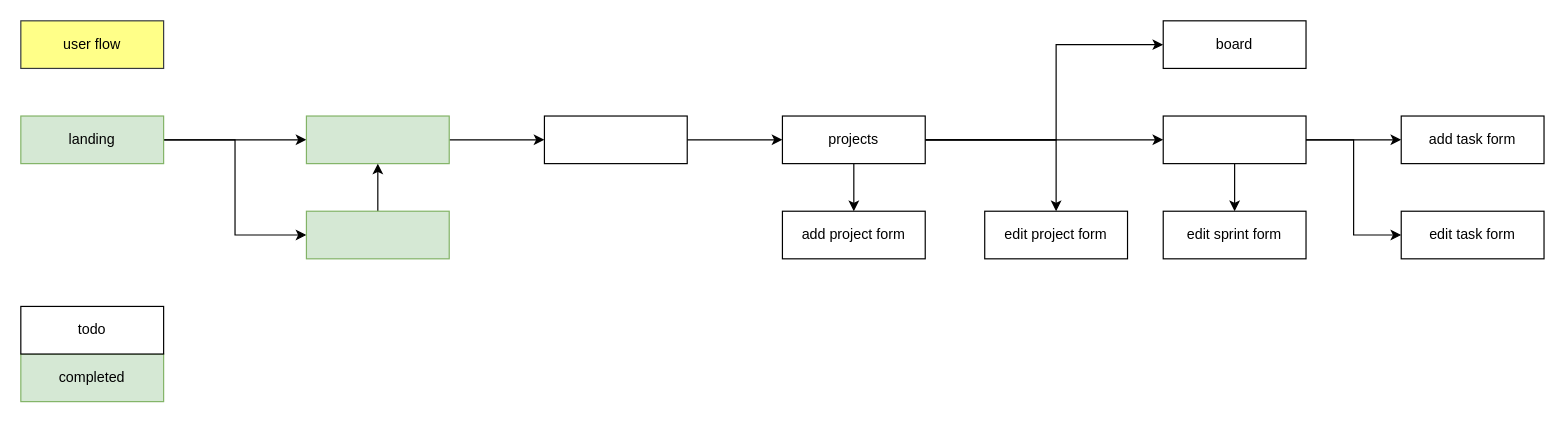
Image size: 1565x422. Some labels were removed from this diagram. Here are the shapes that lost their labels. From the top down, the box of each, then its label:
(305, 115, 449, 164): login
(543, 115, 687, 164): home
(1162, 115, 1306, 164): backlog
(305, 210, 449, 259): register
